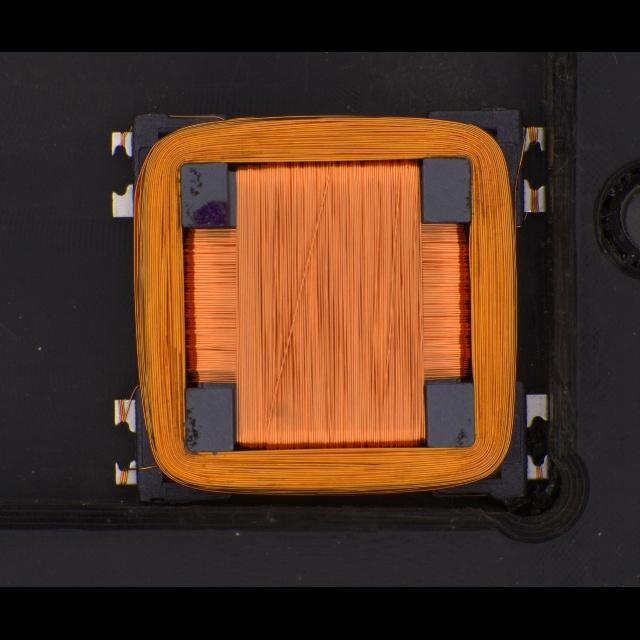Winding_Z: (126, 110, 525, 500)
